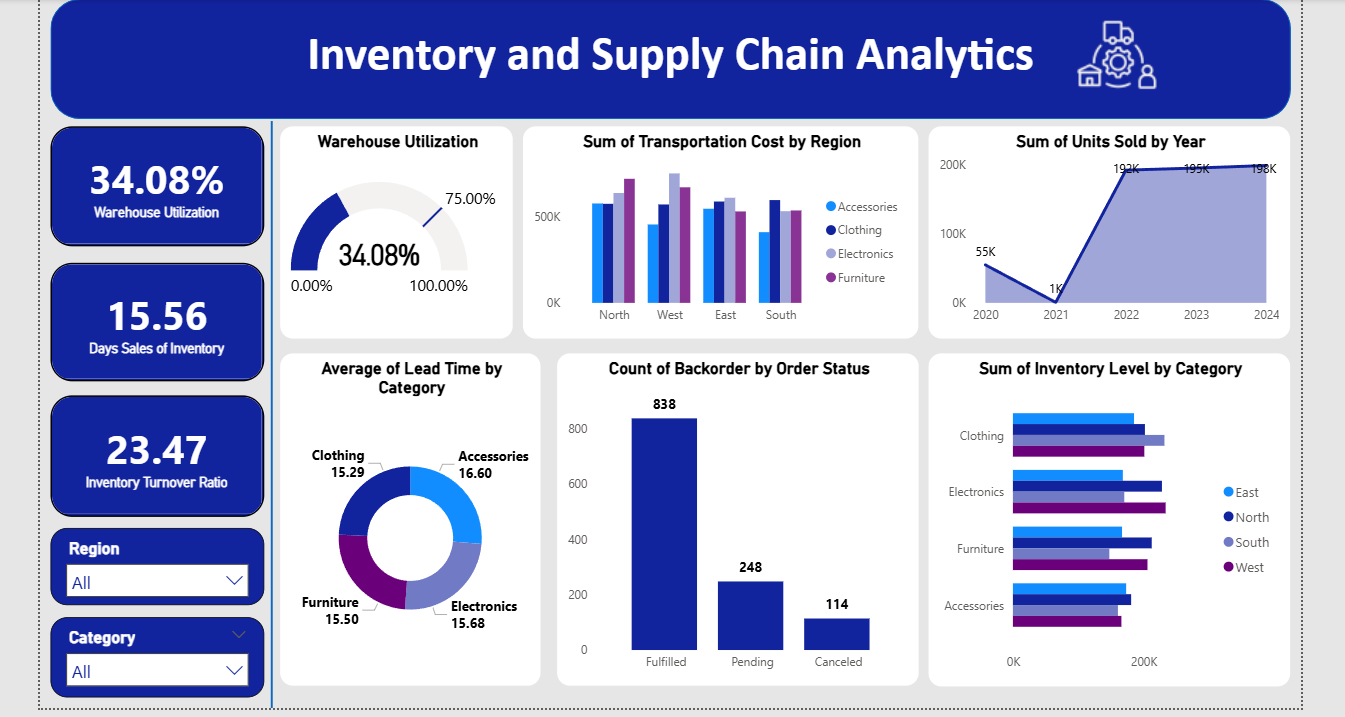

The dashboard page shown, as its layout file describes it:
{"tool":"powerbi","page":{"name":"Page 1","canvas":[1280,720],"ordinal":0},"visuals":[{"type":"shape","box":[10.4,0,1259.8,122],"z":0},{"type":"textbox","box":[10.4,19.3,1259.8,92.2],"z":1000},{"type":"image","box":[1027.8,10.4,132.4,92.2],"z":2000},{"type":"shape","box":[227.6,123.5,14.9,596.4],"z":3000},{"type":"cardVisual","fields":{"Data":["Inventory and Supply Chain Dataset.Warehouse_Utilization"]},"box":[10.4,129.8,217.2,122],"z":4000},{"type":"cardVisual","fields":{"Data":["Inventory and Supply Chain Dataset.Days Sales of Inventory"]},"box":[10.4,268.2,217.2,120.5],"z":4001},{"type":"cardVisual","fields":{"Data":["Inventory and Supply Chain Dataset.Inventory Turnover Ratio"]},"box":[10.4,402,217.2,123.5],"z":4002},{"type":"slicer","fields":{"Values":["Inventory and Supply Chain Dataset.Region"]},"box":[10.4,537,217.2,78.8],"z":4003},{"type":"slicer","fields":{"Values":["Inventory and Supply Chain Dataset.Category"]},"box":[10.4,627.7,217.2,81.8],"z":4004},{"type":"gauge","title":"Warehouse Utilization","fields":{"Y":["Inventory and Supply Chain Dataset.Warehouse_Utilization"]},"box":[243.9,129.4,236.5,215.7],"z":4005},{"type":"clusteredColumnChart","title":"Sum of Transportation Cost by Region","fields":{"Y":["Sum(Inventory and Supply Chain Dataset.Transportation Cost)"],"Category":["Inventory and Supply Chain Dataset.Region"],"Series":["Inventory and Supply Chain Dataset.Category"]},"box":[490.8,129.4,401.6,215.7],"z":4006},{"type":"lineChart","fields":{"Y":["Sum(Inventory and Supply Chain Dataset.Units Sold)"],"Category":["Inventory and Supply Chain Dataset.Date.Variation.Date Hierarchy.Year"]},"box":[902.9,129.4,367.4,215.7],"z":4007},{"type":"donutChart","fields":{"Y":["Avg(Inventory and Supply Chain Dataset.Lead Time)"],"Category":["Inventory and Supply Chain Dataset.Category"]},"box":[243.9,360,264.8,337.6],"z":4008},{"type":"columnChart","fields":{"Category":["Inventory and Supply Chain Dataset.Order Status"],"Y":["CountNonNull(Inventory and Supply Chain Dataset.Backorder)"]},"box":[525.1,360,367.4,337.6],"z":4009},{"type":"clusteredBarChart","title":"Sum of Inventory Level by Category","fields":{"Category":["Inventory and Supply Chain Dataset.Category"],"Y":["Sum(Inventory and Supply Chain Dataset.Inventory Level)"],"Series":["Inventory and Supply Chain Dataset.Region"]},"box":[903,360,367,338],"z":4010}]}

Visuals, with their boxes on the page's 1280x720 design canvas (x1, y1, x2, y2). These are canvas units, not pixel positions in the 1345x717 screenshot, which may show the page scaled, cropped or inside an application window:
shape: bbox=(10, 0, 1270, 122)
textbox: bbox=(10, 19, 1270, 112)
image: bbox=(1028, 10, 1160, 103)
shape: bbox=(228, 124, 242, 720)
cardVisual - Inventory and Supply Chain Dataset.Warehouse_Utilization: bbox=(10, 130, 228, 252)
cardVisual - Inventory and Supply Chain Dataset.Days Sales of Inventory: bbox=(10, 268, 228, 389)
cardVisual - Inventory and Supply Chain Dataset.Inventory Turnover Ratio: bbox=(10, 402, 228, 526)
slicer - Inventory and Supply Chain Dataset.Region: bbox=(10, 537, 228, 616)
slicer - Inventory and Supply Chain Dataset.Category: bbox=(10, 628, 228, 710)
"Warehouse Utilization" gauge: bbox=(244, 129, 480, 345)
"Sum of Transportation Cost by Region" clusteredColumnChart: bbox=(491, 129, 892, 345)
lineChart - Sum(Inventory and Supply Chain Dataset.Units Sold) x Inventory and Supply Chain Dataset.Date.Variation.Date Hierarchy.Year: bbox=(903, 129, 1270, 345)
donutChart - Avg(Inventory and Supply Chain Dataset.Lead Time) x Inventory and Supply Chain Dataset.Category: bbox=(244, 360, 509, 698)
columnChart - Inventory and Supply Chain Dataset.Order Status x CountNonNull(Inventory and Supply Chain Dataset.Backorder): bbox=(525, 360, 892, 698)
"Sum of Inventory Level by Category" clusteredBarChart: bbox=(903, 360, 1270, 698)
